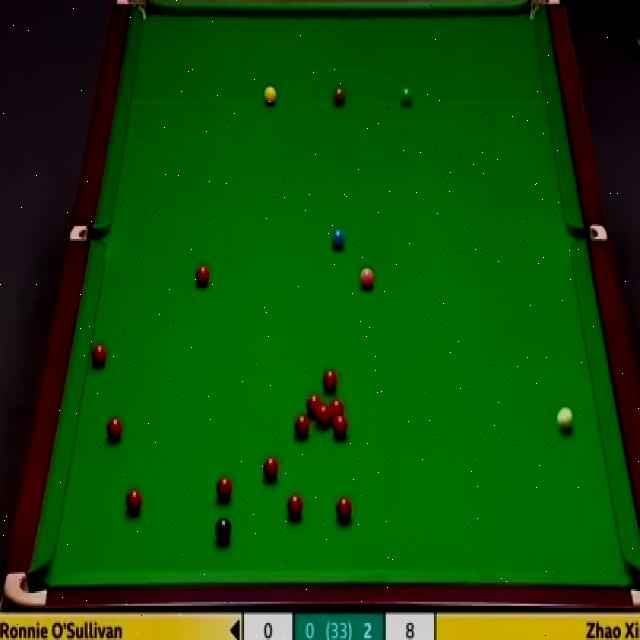black-ball: (215, 518, 232, 548)
blue-ball: (331, 226, 346, 251)
brown-ball: (333, 84, 346, 106)
green-ball: (399, 88, 413, 108)
pink-ball: (360, 266, 374, 289)
red-ball: (335, 496, 354, 525), (124, 487, 143, 516), (89, 344, 107, 372), (216, 476, 234, 502), (288, 492, 304, 521), (106, 414, 122, 442), (322, 369, 338, 395), (263, 457, 279, 483), (295, 415, 309, 440), (195, 263, 210, 286), (306, 393, 320, 417), (333, 416, 347, 438), (330, 400, 344, 421), (316, 404, 330, 424)
white-ball: (557, 405, 573, 432)
yellow-ball: (263, 86, 277, 108)
